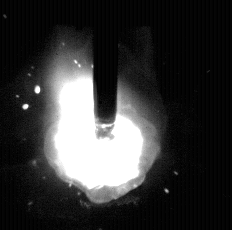arame: (94, 0, 119, 138)
poca: (43, 0, 164, 230)
